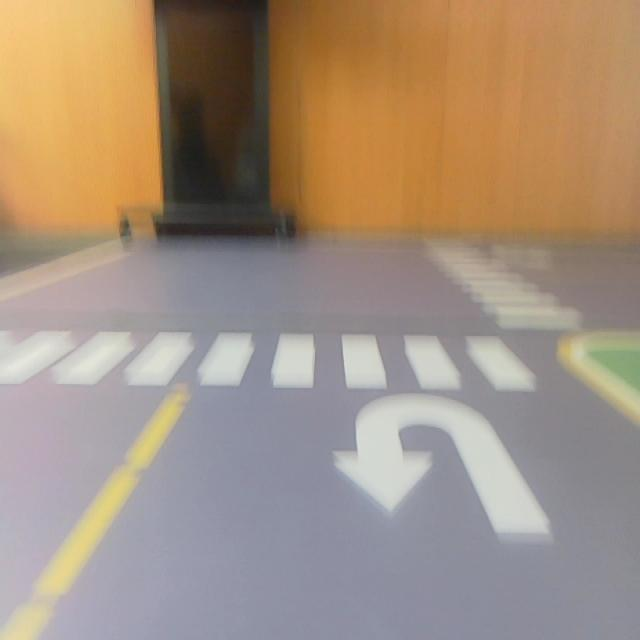left_lane: (1, 394, 193, 638)
right_lane: (560, 347, 640, 424)
